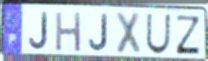H: (54, 10, 83, 53)
J: (27, 11, 49, 52), (87, 13, 109, 53)
U: (145, 13, 172, 56)
X: (115, 10, 142, 56)
Z: (174, 14, 202, 56)
